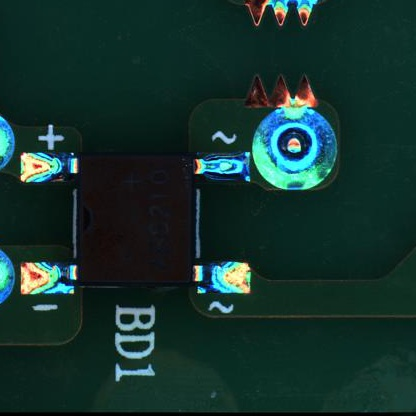spot: (248, 98, 347, 199)
